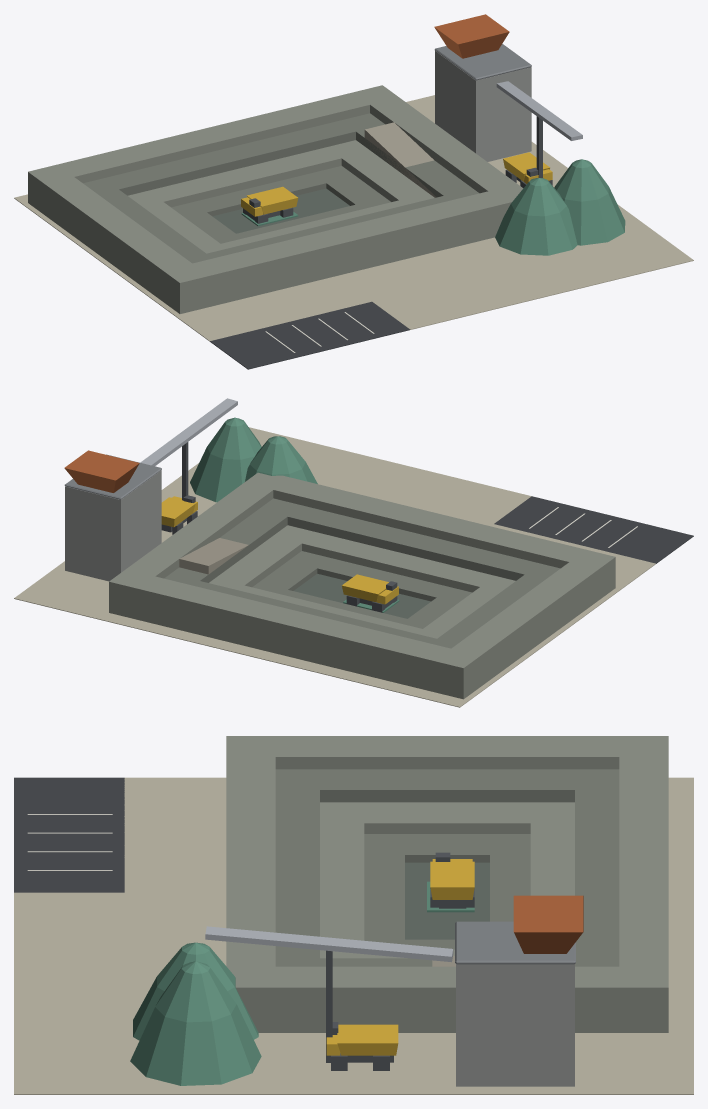
File: coppermine.glb
3 views of the same model, one above another, from view 1: azimuth 30°, elevation 25°; view 2: azimuth 150°, elevation 25°; view 3: azimuth 270°, elevation 25° (orthographic). The views are drawn at different scales.
Parts seen in each view (by area): view 1: coppermine; view 2: coppermine; view 3: coppermine.
Part boxes in pixels (<box>): coppermine: <box>14,14,693,369</box>; coppermine: <box>14,398,693,707</box>; coppermine: <box>14,736,693,1094</box>.
Size of the model in its own units: 44 by 10 by 40.
